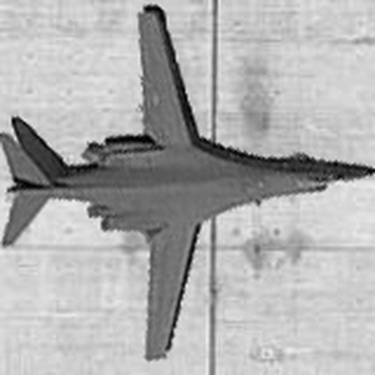airplane: (1, 3, 367, 366)
